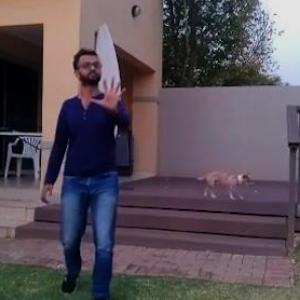follow_hand: (87, 69, 132, 113)
